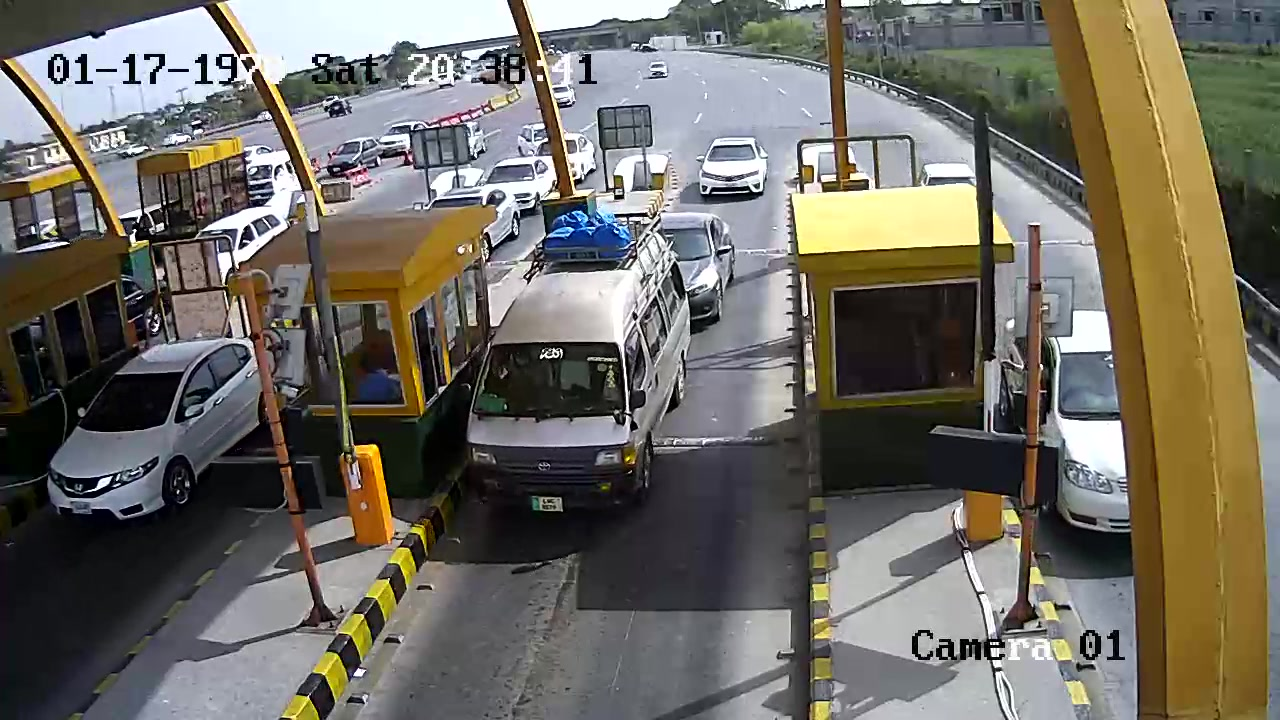F3: (464, 213, 696, 537)
